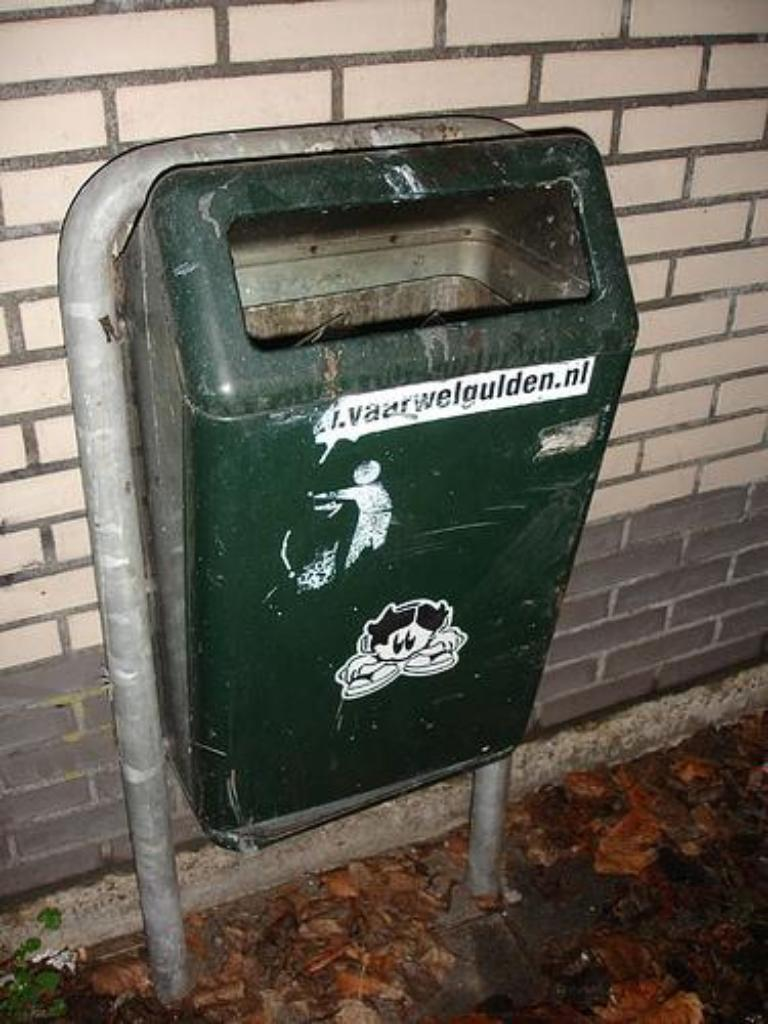dustbin: (59, 124, 654, 946)
